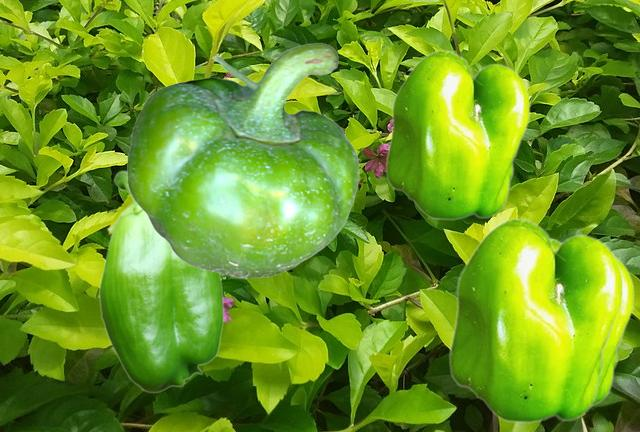bell_pepper: (127, 42, 358, 277), (448, 217, 622, 422), (98, 170, 223, 392), (385, 49, 529, 219), (552, 237, 633, 406)
